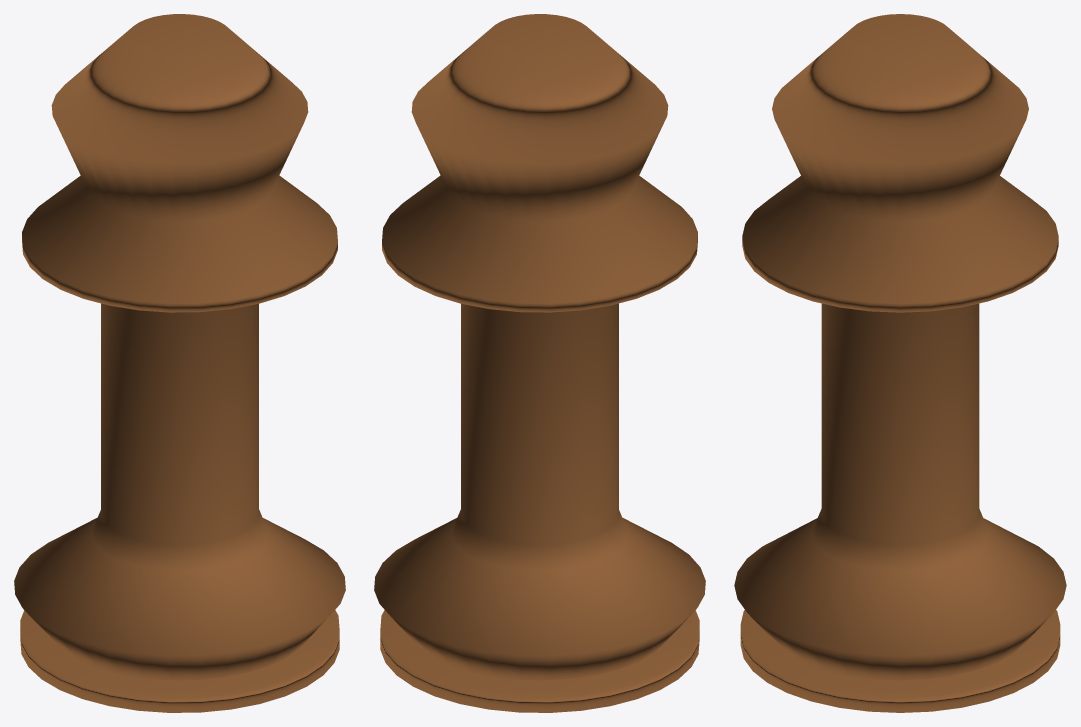
Rendered from Pawn.gltf.
3 views of the same model, side by side, from view 1: azimuth 30°, elevation 25°; view 2: azimuth 150°, elevation 25°; view 3: azimuth 270°, elevation 25° (orthographic).
Parts seen in each view (by area): view 1: Cylinder.001; view 2: Cylinder.001; view 3: Cylinder.001.
Boxes of the visible parts, x1=… form: Cylinder.001: x1=14, y1=14, x2=345, y2=712; Cylinder.001: x1=374, y1=14, x2=705, y2=712; Cylinder.001: x1=734, y1=14, x2=1066, y2=712.
Size of the model in its own units: 2.08 by 4.21 by 2.08.
